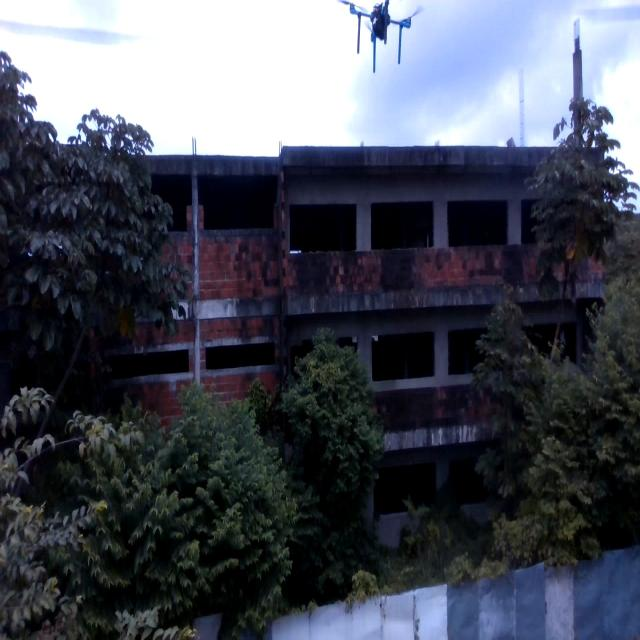-uav-: (335, 0, 426, 83)
